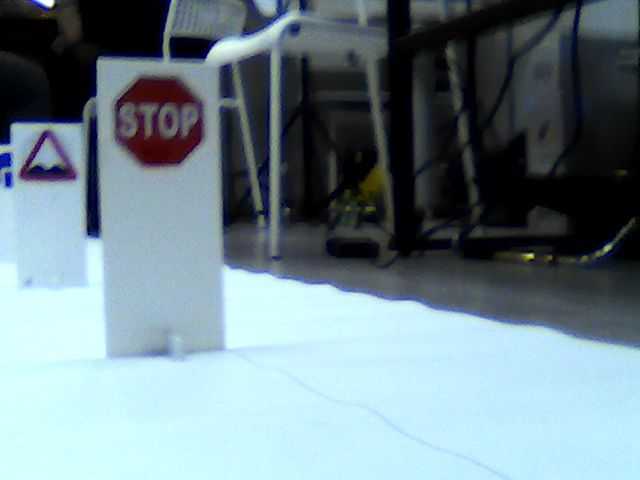Nerov: (18, 128, 76, 177)
Stop: (111, 71, 202, 167)
